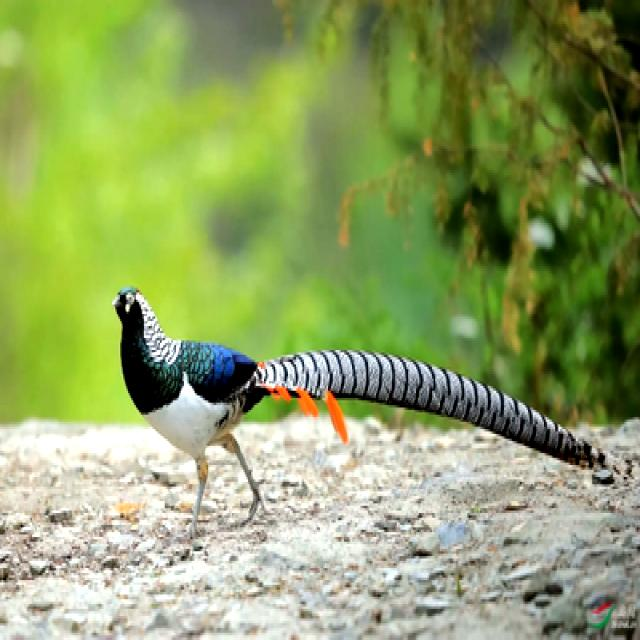Chrysolophus amherstiae: (254, 350, 603, 463)
